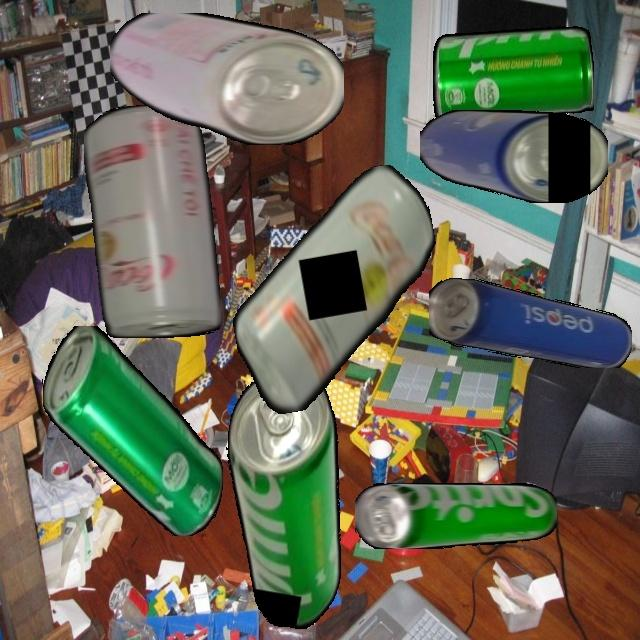debris: (211, 159, 460, 419), (197, 361, 374, 636), (41, 325, 223, 536), (84, 104, 221, 339), (109, 13, 344, 145), (429, 277, 632, 368), (419, 110, 608, 203), (432, 25, 594, 121), (355, 482, 557, 549)
